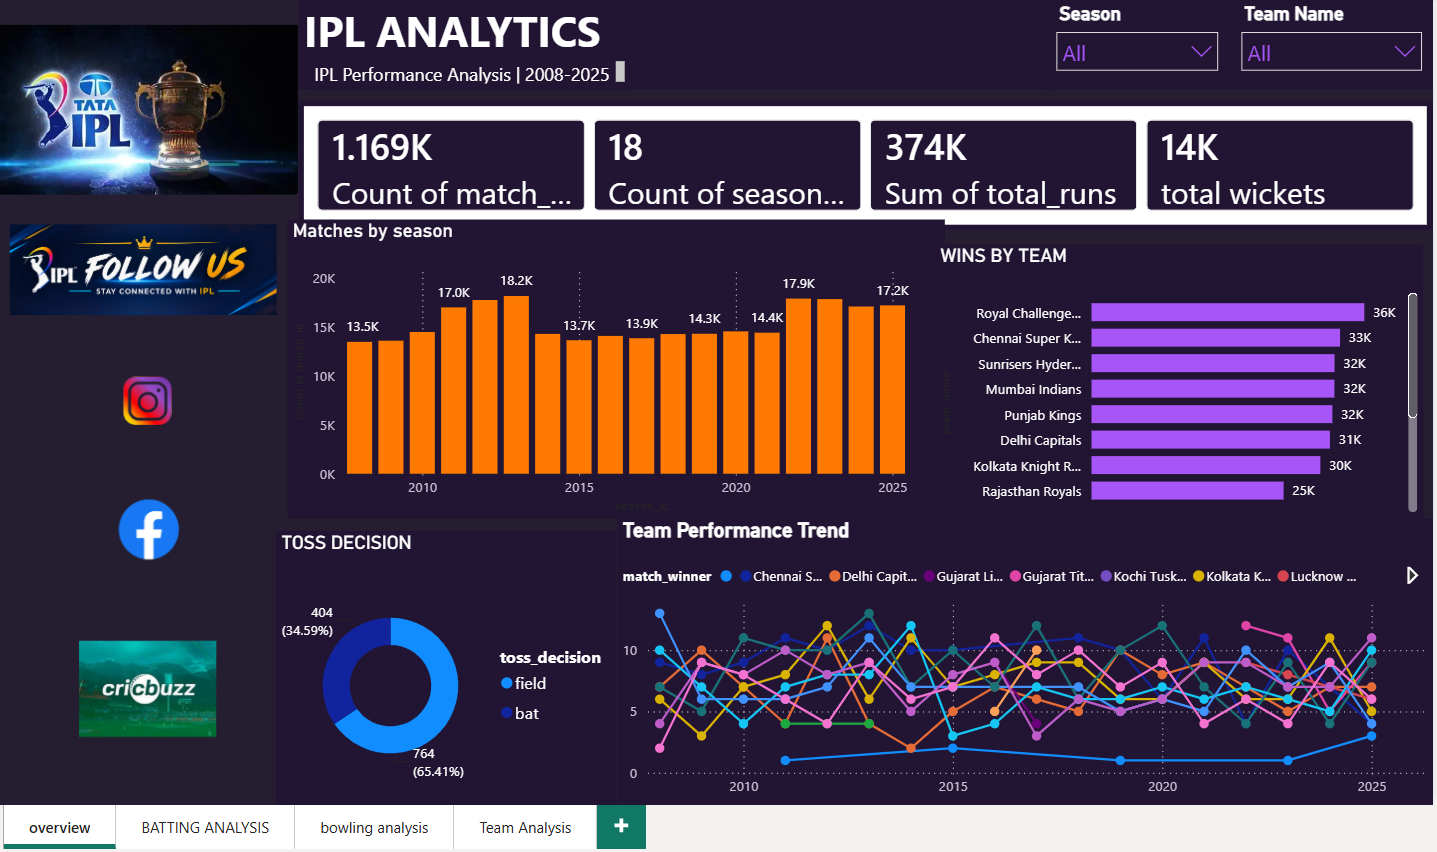

What the dashboard file says about the page in this screenshot:
{"tool":"powerbi","page":{"name":"overview","canvas":[1280,720],"ordinal":0},"visuals":[{"type":"cardVisual","fields":{"Data":["CountNonNull(ipl_matches_data.match_id)","Count(ipl_matches_data.season_id)","Sum(ball_by_ball_data.total_runs)","ball_by_ball_data.total wickets"]},"box":[269,91.9,1011.3,115.3],"z":0},{"type":"clusteredColumnChart","title":"Matches by season","fields":{"Category":["ipl_matches_data.season_id"],"Y":["CountNonNull(ball_by_ball_data.match_id)"]},"box":[259.3,197.6,585.9,266.2],"z":1000},{"type":"clusteredBarChart","title":"WINS BY TEAM","fields":{"Category":["teams_data.team_name"],"Y":["CountNonNull(ball_by_ball_data.match_id)"]},"box":[835.7,220.9,435,277.2],"z":2000},{"type":"donutChart","title":"TOSS DECISION","fields":{"Y":["CountNonNull(ipl_matches_data.match_id)"],"Category":["ipl_matches_data.toss_decision"]},"box":[249.7,474.8,303.3,245.6],"z":3000},{"type":"lineChart","title":"Team Performance Trend","fields":{"Category":["ipl_matches_data.season_id"],"Y":["CountNonNull(ipl_matches_data.match_id)"],"Series":["ipl_matches_data.match_winner"]},"box":[553,463.8,727.3,256.6],"z":4000},{"type":"textbox","box":[269,0,675.1,82.3],"z":5000},{"type":"slicer","fields":{"Values":["ipl_matches_data.season"]},"box":[934.5,0,164.7,82.3],"z":6000},{"type":"slicer","fields":{"Values":["teams_data.team_name"]},"box":[1099.1,0,181.1,82.3],"z":7000},{"type":"textbox","box":[278.6,52.1,286.8,30.2],"z":8000},{"type":"image","box":[0,0,269,200.3],"z":9000},{"type":"actionButton","box":[59.3,311.6,152.3,96.5],"z":10000},{"type":"actionButton","box":[75.6,418.6,120.9,111.6],"z":11000},{"type":"actionButton","box":[46.5,551.2,176.7,130.2],"z":12000},{"type":"image","box":[12.8,173.3,237.2,138.4],"z":13000}]}

Visuals, with their boxes on the page's 1280x720 design canvas (x1, y1, x2, y2). These are canvas units, not pixel positions in the 1437x852 screenshot, which may show the page scaled, cropped or inside an application window:
cardVisual - CountNonNull(ipl_matches_data.match_id) x Count(ipl_matches_data.season_id): x1=269 y1=92 x2=1280 y2=207
"Matches by season" clusteredColumnChart: x1=259 y1=198 x2=845 y2=464
"WINS BY TEAM" clusteredBarChart: x1=836 y1=221 x2=1271 y2=498
"TOSS DECISION" donutChart: x1=250 y1=475 x2=553 y2=720
"Team Performance Trend" lineChart: x1=553 y1=464 x2=1280 y2=720
textbox: x1=269 y1=0 x2=944 y2=82
slicer - ipl_matches_data.season: x1=934 y1=0 x2=1099 y2=82
slicer - teams_data.team_name: x1=1099 y1=0 x2=1280 y2=82
textbox: x1=279 y1=52 x2=565 y2=82
image: x1=0 y1=0 x2=269 y2=200
actionButton: x1=59 y1=312 x2=212 y2=408
actionButton: x1=76 y1=419 x2=196 y2=530
actionButton: x1=46 y1=551 x2=223 y2=681
image: x1=13 y1=173 x2=250 y2=312
